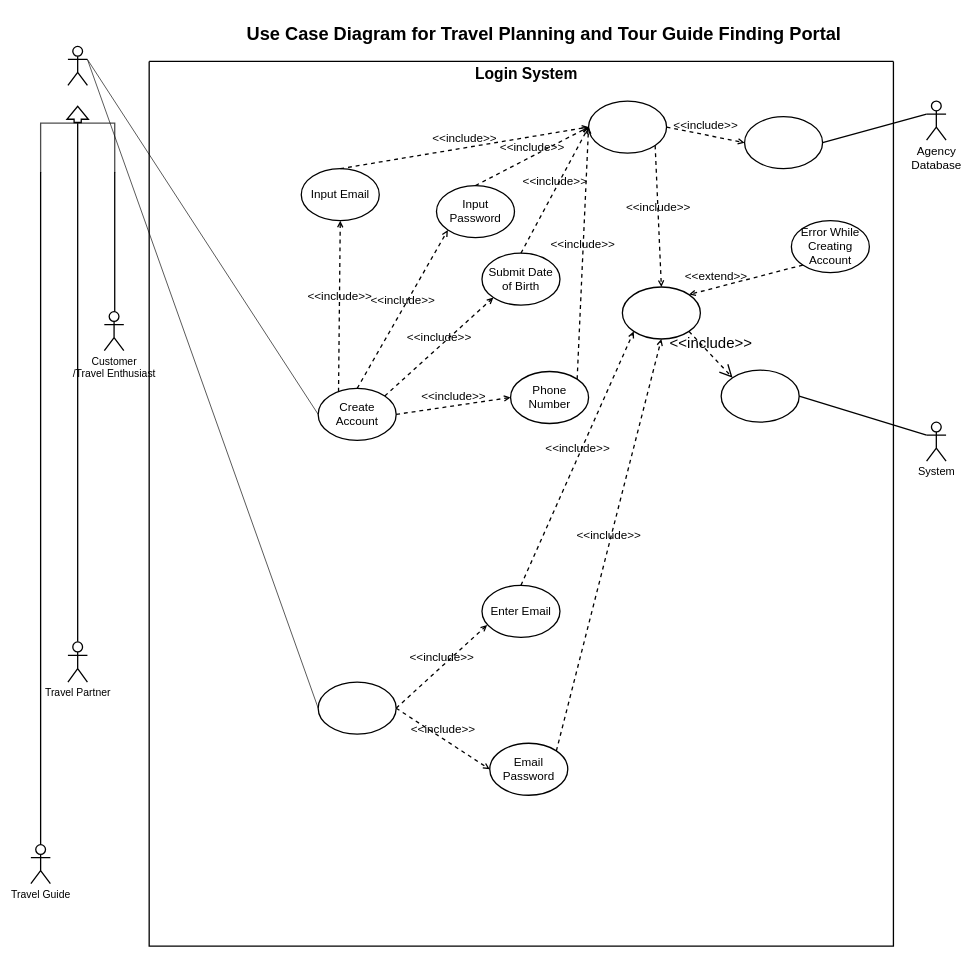
This 972x957 diagram has some shape labels left out. Here are the shapes that lost their labels. From the top down, the centre of each, then its label:
At (x=77, y=66): "User".
At (x=627, y=126): "Enter Information".
At (x=783, y=142): "Store Info".
At (x=661, y=312): "Captcha Verification".
At (x=760, y=395): "Verify".
At (x=356, y=707): "Login Account".
